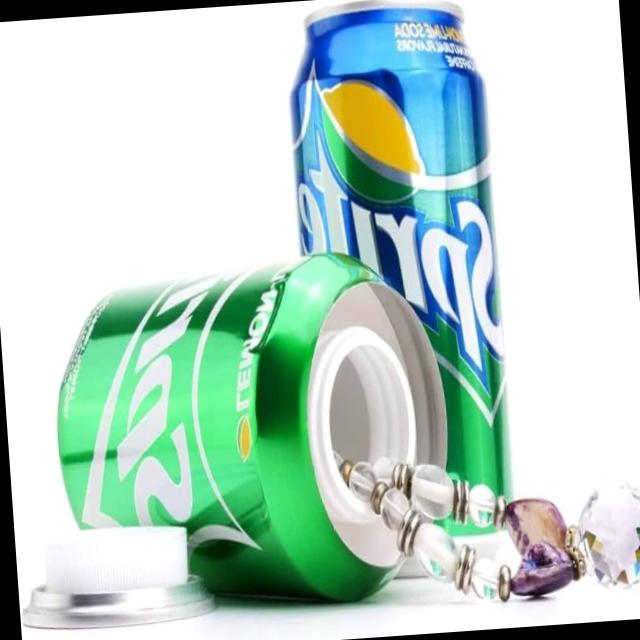sprite: (282, 0, 534, 543), (71, 261, 446, 593)
